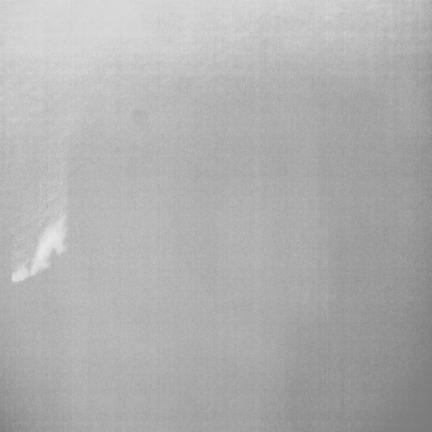flukeprints: (30, 216, 65, 275), (11, 264, 28, 282)
